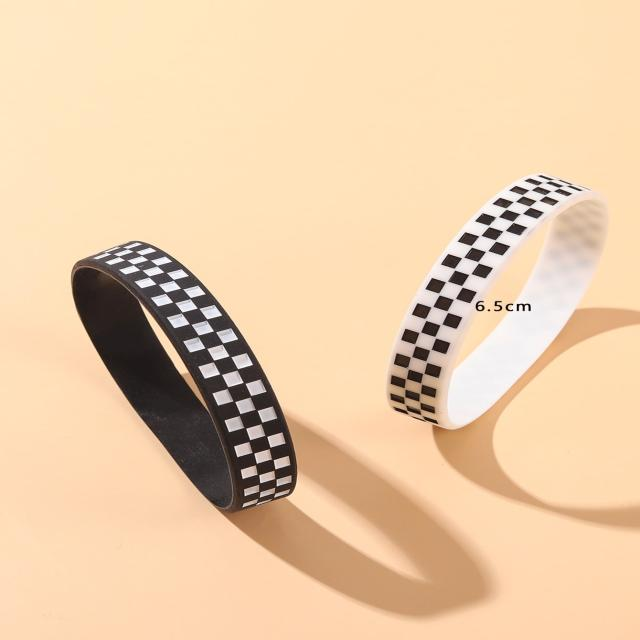bracelet: (35, 164, 335, 590), (371, 150, 640, 467)
